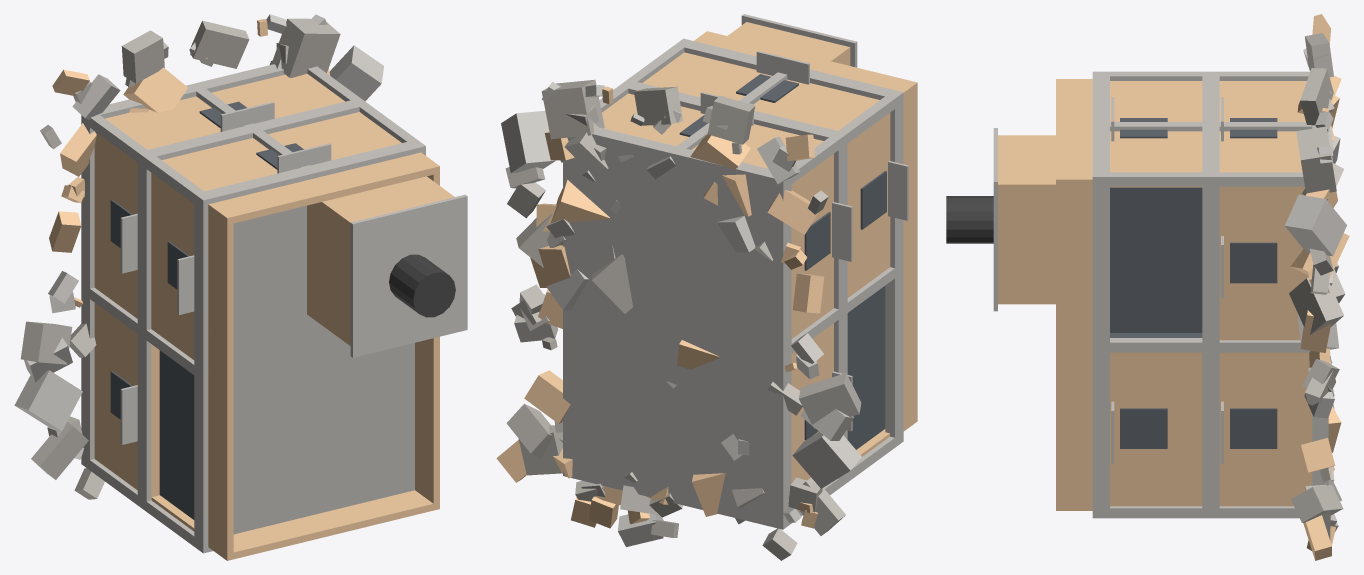
The model's file is damaged_infill_rowhouse_2f.glb.
3 views of the same model, side by side, from view 1: azimuth 30°, elevation 25°; view 2: azimuth 150°, elevation 25°; view 3: azimuth 270°, elevation 25° (orthographic). The views are drawn at different scales.
Visible parts, largest first — view 1: orange, concrete, roof, rubble, glass, tank; view 2: concrete, orange, rubble, glass; view 3: orange, concrete, glass, rubble, tank.
Boxes of the visible parts, box(x1,y1,x2,y2) form: orange: box(49, 19, 454, 560); concrete: box(14, 14, 467, 553); roof: box(233, 205, 414, 534); rubble: box(20, 18, 340, 499); glass: box(110, 101, 303, 519); tank: box(389, 254, 455, 317); concrete: box(501, 14, 908, 546); orange: box(496, 22, 917, 528); rubble: box(505, 79, 861, 560); glass: box(679, 74, 886, 449); orange: box(998, 14, 1349, 560); concrete: box(993, 48, 1346, 531); glass: box(1110, 118, 1277, 448); rubble: box(1289, 33, 1345, 543); tank: box(946, 196, 993, 243).
Bounding box in the file's own units: 11.08 × 13.79 × 11.02.
